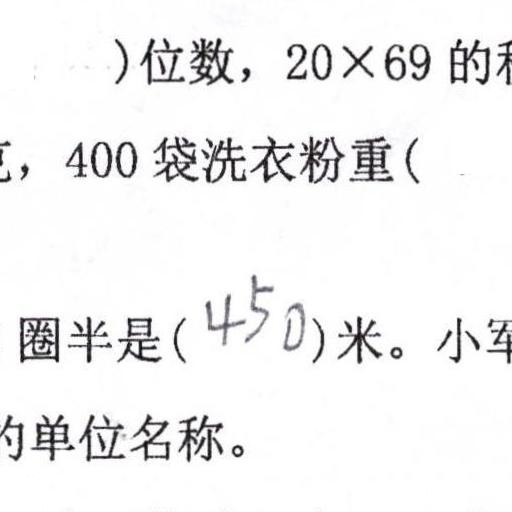ans: (198, 270, 306, 353)
